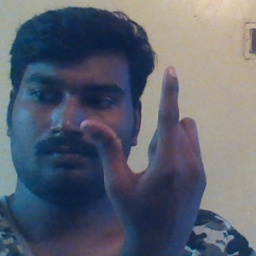U: (77, 51, 220, 214)
